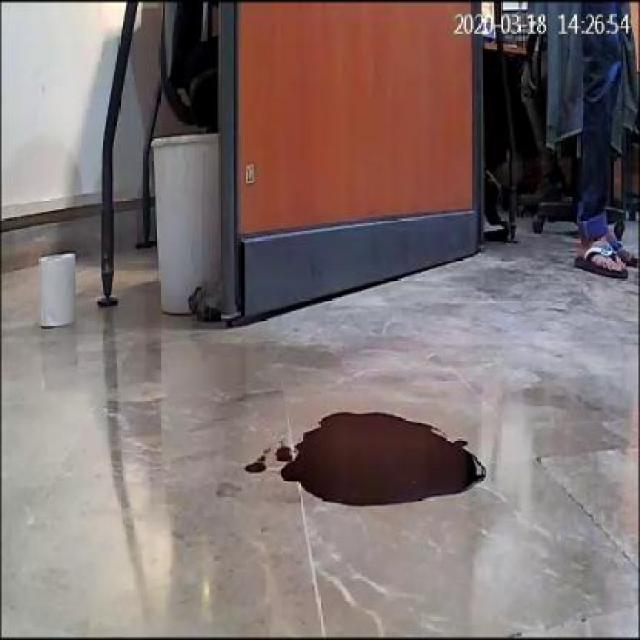spill: (281, 408, 484, 504)
